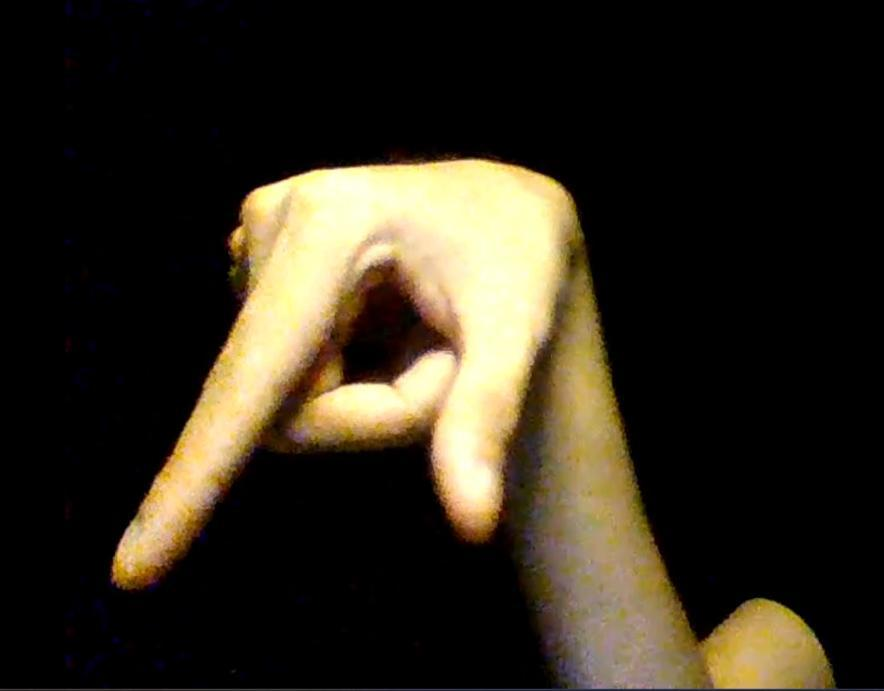q: (107, 164, 580, 596)
